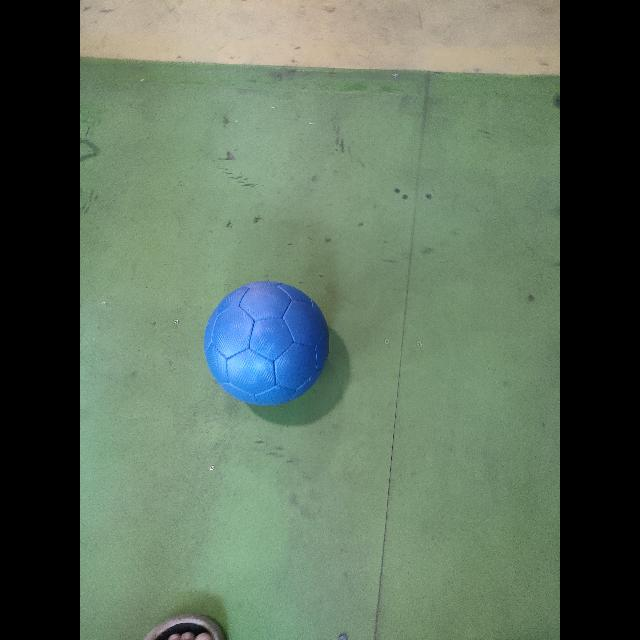B: (249, 344, 283, 368)
